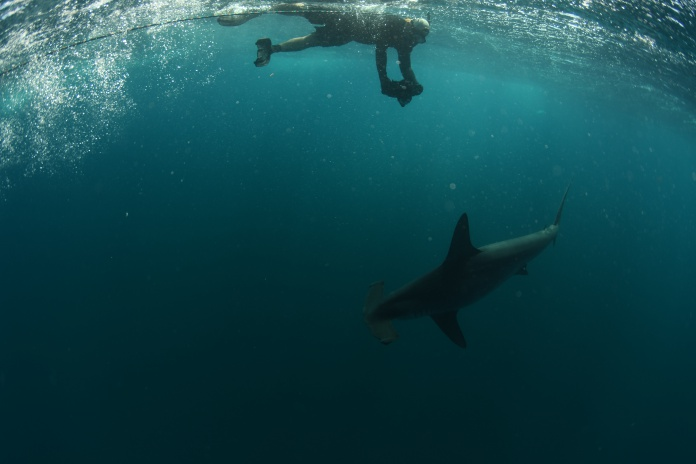Hammer: (321, 180, 605, 364), (296, 161, 555, 298)
